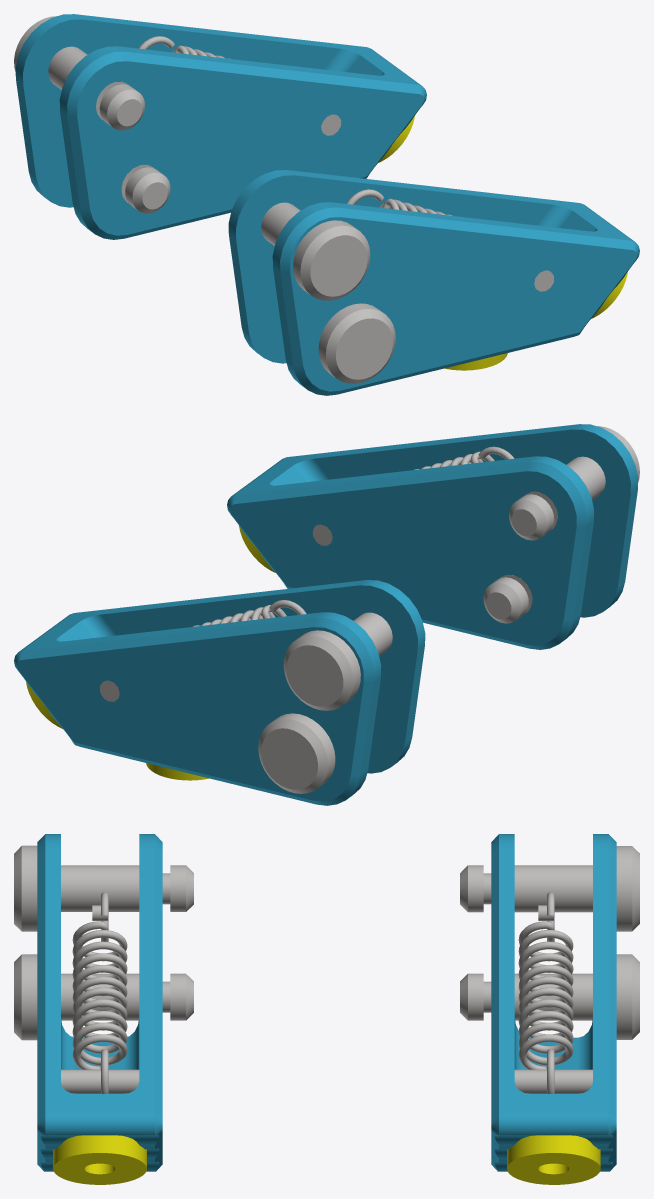
The model's file is index_end.DAE.
3 views of the same model, one above another, from view 1: azimuth 30°, elevation 25°; view 2: azimuth 150°, elevation 25°; view 3: azimuth 270°, elevation 25° (orthographic). The views are drawn at different scales.
Visible parts, largest first — view 1: ソリッド2, ソリッド1, ソリッド6, ソリッド5, ソリッド3, ソリッド4, ソリッド9_ncl1_1, ソリッド10_ncl1_1; view 2: ソリッド1, ソリッド2, ソリッド3, ソリッド4, ソリッド6, ソリッド5, ソリッド10_ncl1_1, ソリッド9_ncl1_1; view 3: ソリッド1, ソリッド2, ソリッド3, ソリッド6, ソリッド5, ソリッド4, ソリッド13, ソリッド11, ソリッド8_ncl1_1, ソリッド7_ncl1_1, ソリッド9_ncl1_1, ソリッド10_ncl1_1 (+2 smaller).
Boxes of the visible parts, box(x1,y1,x2,y2) form: ソリッド2: box(15, 14, 426, 239); ソリッド1: box(228, 170, 639, 395); ソリッド6: box(261, 202, 370, 300); ソリッド5: box(318, 303, 395, 383); ソリッド3: box(14, 16, 144, 130); ソリッド4: box(121, 164, 170, 213); ソリッド9_ncl1_1: box(346, 189, 445, 214); ソリッド10_ncl1_1: box(138, 36, 230, 58); ソリッド1: box(227, 424, 638, 649); ソリッド2: box(14, 580, 425, 805); ソリッド3: box(283, 612, 392, 710); ソリッド4: box(258, 713, 335, 793); ソリッド6: box(509, 426, 639, 540); ソリッド5: box(483, 574, 532, 623); ソリッド10_ncl1_1: box(210, 600, 306, 624); ソリッド9_ncl1_1: box(421, 446, 514, 469); ソリッド1: box(37, 834, 162, 1171); ソリッド2: box(491, 834, 616, 1171); ソリッド3: box(460, 846, 639, 931); ソリッド6: box(14, 845, 193, 931); ソリッド5: box(14, 954, 193, 1040); ソリッド4: box(460, 954, 639, 1039); ソリッド13: box(53, 1135, 146, 1184); ソリッド11: box(507, 1135, 600, 1184); ソリッド8_ncl1_1: box(72, 987, 127, 1093); ソリッド7_ncl1_1: box(518, 987, 573, 1093); ソリッド9_ncl1_1: box(72, 892, 127, 1007); ソリッド10_ncl1_1: box(518, 892, 573, 1007).
Size of the model in its own units: 0.0288 by 0.04 by 0.0152.
